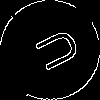U: (25, 25, 82, 78)
